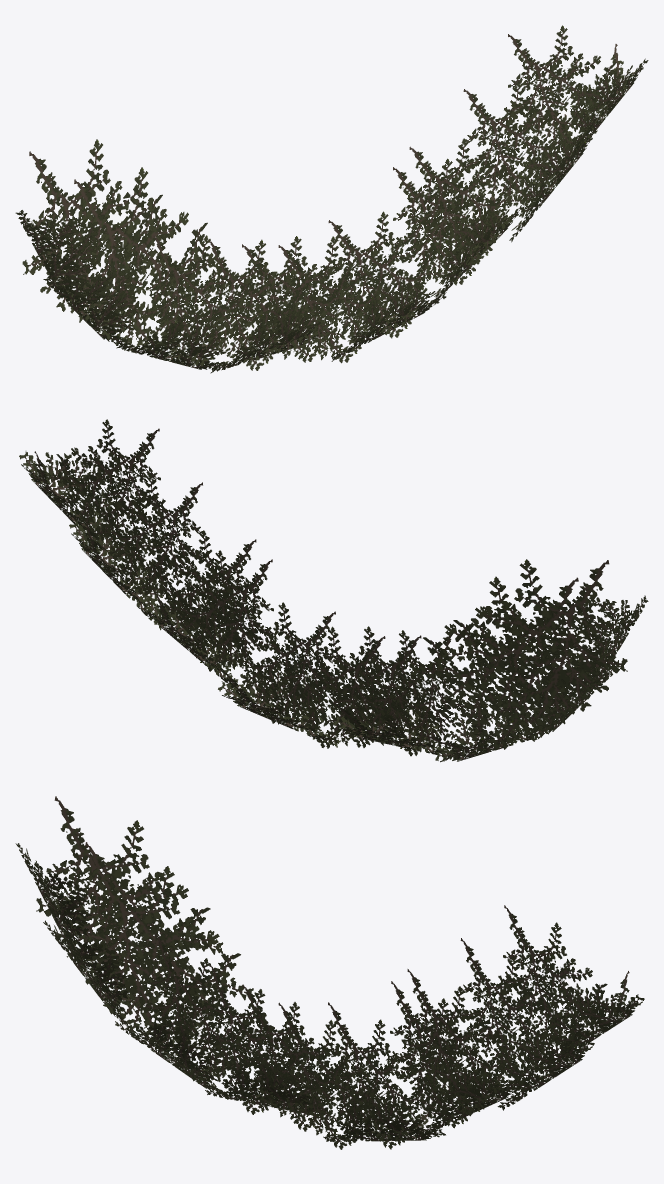
File: WideHangingGreen.fbx
3 views of the same model, one above another, from view 1: azimuth 30°, elevation 25°; view 2: azimuth 150°, elevation 25°; view 3: azimuth 330°, elevation 25° (orthographic).
Parts seen in each view (by area): view 1: derevo1.020; view 2: derevo1.020; view 3: derevo1.020.
Boxes of the visible parts, x1,y1,x2,y2 form: derevo1.020: (15,25,648,373); derevo1.020: (19,419,648,762); derevo1.020: (15,796,644,1149).
Size of the model in its own units: 493 by 216 by 52.53.
